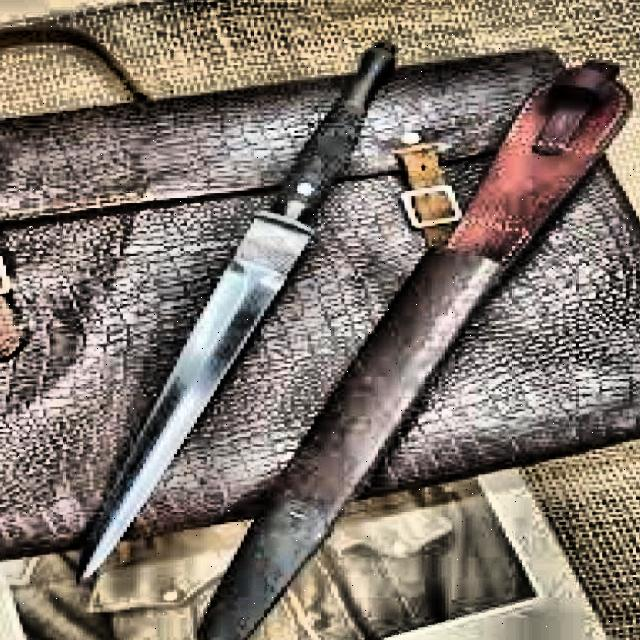knife: (195, 56, 640, 640), (59, 39, 409, 590)
